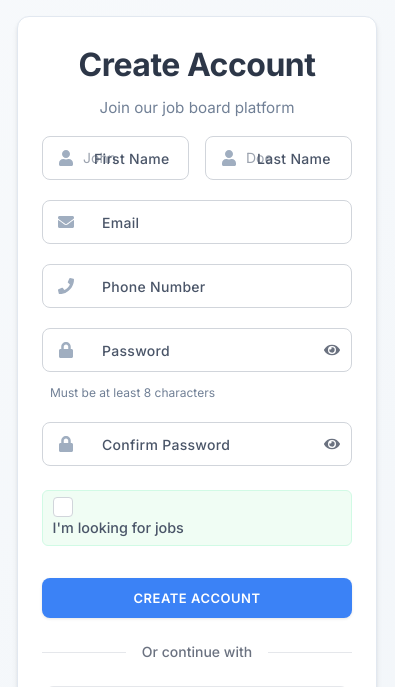
RegisterPage › handles message-only registration
In the field labelled "First Name": (116, 158) left=42, top=136, right=189, bottom=180, type "Test"
In the field labelled "Last Name": (278, 158) left=205, top=136, right=352, bottom=180, type "User"
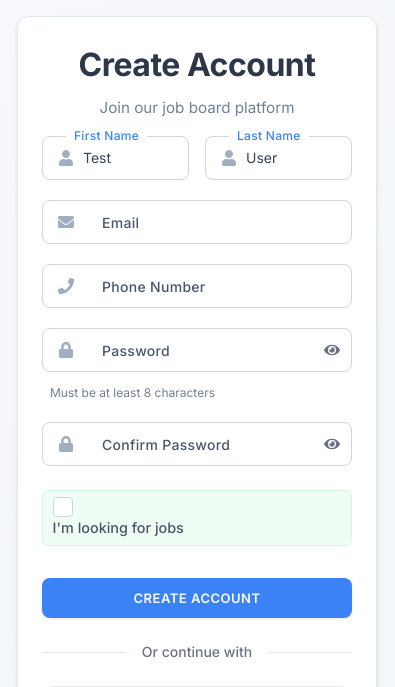
In the field labelled "Email": (197, 222) left=42, top=200, right=352, bottom=244, type "t@u.com"
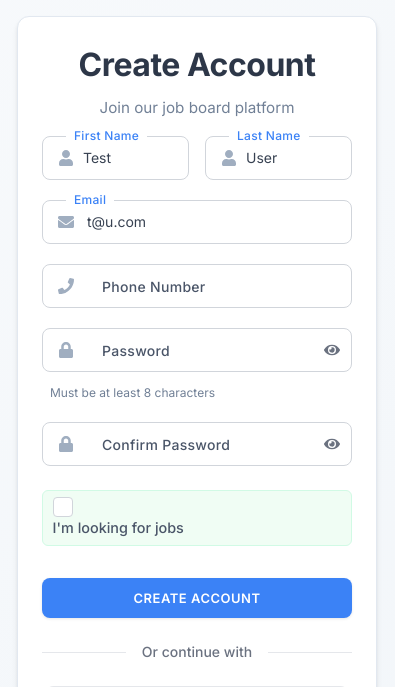
In the field labelled "Phone Number": (197, 286) left=42, top=264, right=352, bottom=308, type "1234567890"
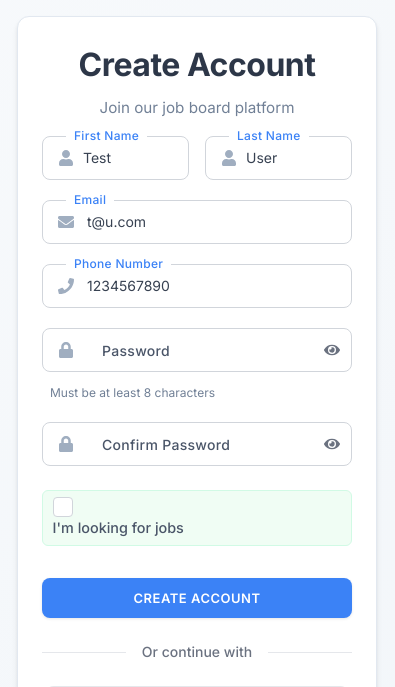
In the password field labelled "Password": (197, 350) left=42, top=328, right=352, bottom=372, type "password123"
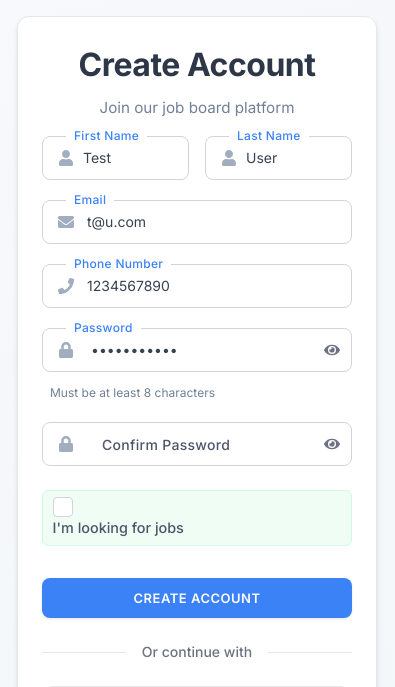
In the password field labelled "Confirm Password": (197, 444) left=42, top=422, right=352, bottom=466, type "password123"
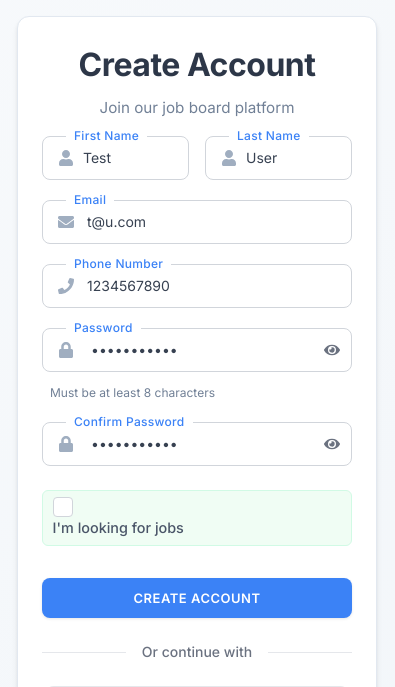
Click the button "Create Account": (197, 598) left=42, top=578, right=352, bottom=618
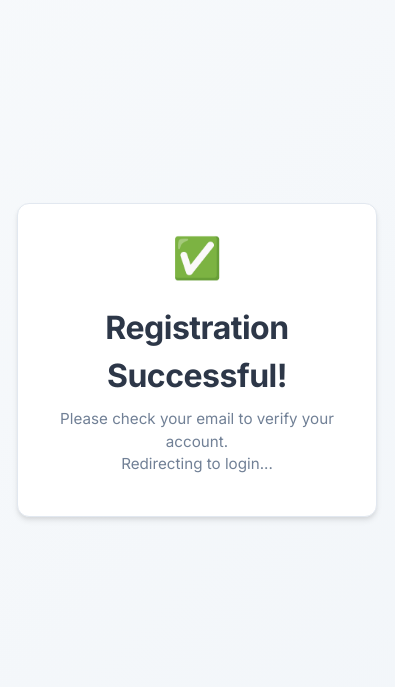
Expected: the heading "Registration Successful!" is shown, left=105, top=308, right=289, bottom=395
